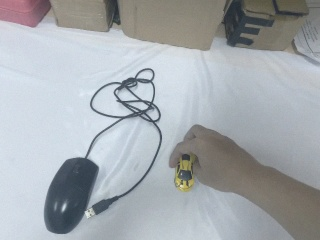box: (110, 1, 243, 51)
mouse: (44, 157, 99, 235)
toy_car: (174, 153, 197, 192)
